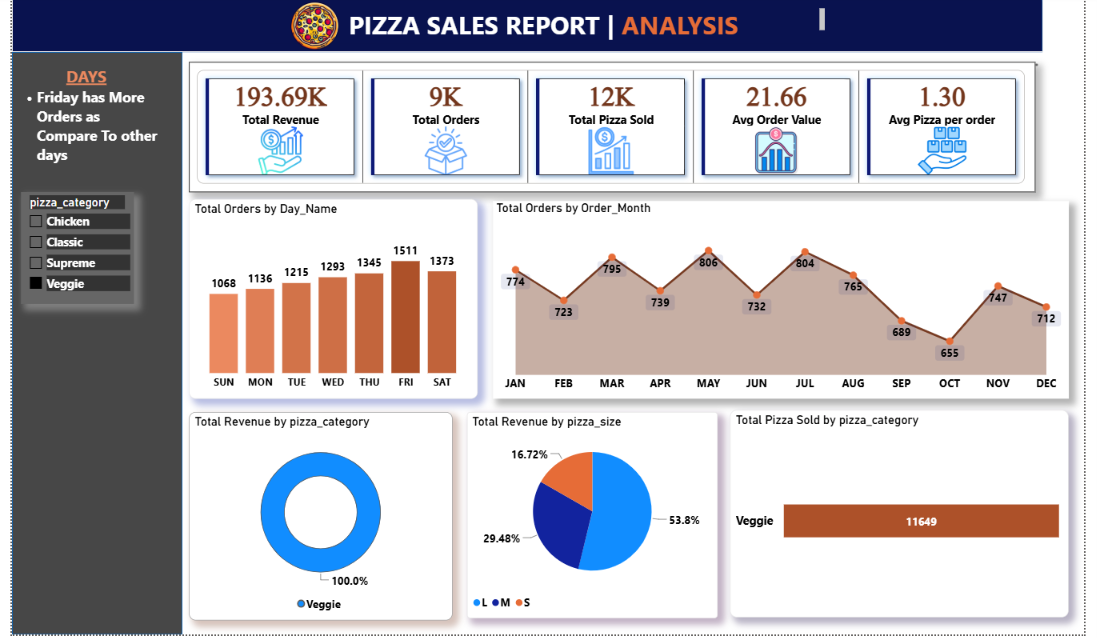

What the dashboard file says about the page in this screenshot:
{"tool":"powerbi","page":{"name":"Page 1","canvas":[1600,954],"ordinal":0},"visuals":[{"type":"shape","box":[0,0,1539.3,84.2],"z":0},{"type":"textbox","box":[377.5,13.6,840.8,57.2],"z":1000},{"type":"cardVisual","fields":{"Data":["pizza_sales.Total Revenue","pizza_sales.Total Orders","pizza_sales.Total Pizza Sold","pizza_sales.Avg Order Value","pizza_sales.Avg Pizza per order"]},"box":[263.9,98.4,1264,194],"z":2000},{"type":"shape","box":[0,84.3,254.4,870.1],"z":3000},{"type":"textbox","box":[785.1,402.3,359.5,283.7],"z":4000},{"type":"columnChart","fields":{"Category":["pizza_sales.Day_Name"],"Y":["pizza_sales.Total Orders"]},"box":[264.1,303,431,298.1],"z":5000},{"type":"textbox","box":[0,97.8,227.4,172.4],"z":6000},{"type":"stackedAreaChart","fields":{"Y":["pizza_sales.Total Orders"],"Category":["pizza_sales.Order_Month"]},"box":[717.8,306.2,860.4,294.9],"z":7000},{"type":"slicer","fields":{"Values":["pizza_sales.pizza_category"]},"box":[13,293.3,168.5,166.9],"z":8000},{"type":"image","box":[388.4,4.1,128.1,80.4],"z":9000},{"type":"donutChart","fields":{"Category":["pizza_sales.pizza_category"],"Y":["pizza_sales.Total Revenue"]},"box":[264.1,620.6,393.7,311.1],"z":10000},{"type":"pieChart","fields":{"Category":["pizza_sales.pizza_size"],"Y":["pizza_sales.Total Revenue"]},"box":[678.9,620.6,374.3,307.8],"z":11000},{"type":"funnel","fields":{"Category":["pizza_sales.pizza_category"],"Y":["pizza_sales.Total Pizza Sold"]},"box":[1072.6,618.9,505.5,309.5],"z":12000}]}

Visuals, with their boxes in screenshot pixels (x1, y1, x2, y2), scaled from the page's 1600x954 canvas onto the 1097x638 screenshot:
shape: (left=0, top=0, right=1055, bottom=56)
textbox: (left=259, top=9, right=835, bottom=47)
cardVisual - pizza_sales.Total Revenue x pizza_sales.Total Orders: (left=181, top=66, right=1048, bottom=196)
shape: (left=0, top=56, right=174, bottom=637)
textbox: (left=538, top=269, right=785, bottom=459)
columnChart - pizza_sales.Day_Name x pizza_sales.Total Orders: (left=181, top=203, right=477, bottom=402)
textbox: (left=0, top=65, right=156, bottom=181)
stackedAreaChart - pizza_sales.Total Orders x pizza_sales.Order_Month: (left=492, top=205, right=1082, bottom=402)
slicer - pizza_sales.pizza_category: (left=9, top=196, right=124, bottom=308)
image: (left=266, top=3, right=354, bottom=57)
donutChart - pizza_sales.pizza_category x pizza_sales.Total Revenue: (left=181, top=415, right=451, bottom=623)
pieChart - pizza_sales.pizza_size x pizza_sales.Total Revenue: (left=465, top=415, right=722, bottom=621)
funnel - pizza_sales.pizza_category x pizza_sales.Total Pizza Sold: (left=735, top=414, right=1082, bottom=621)
